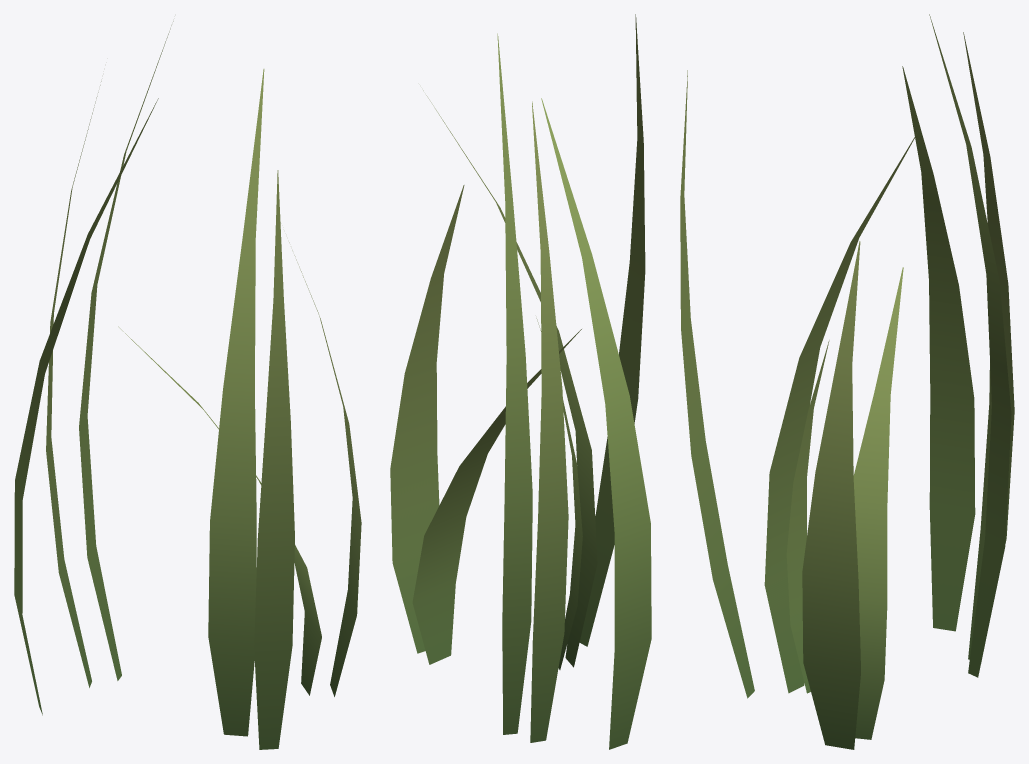
The model's file is Grass_Tuft_01.glb.
3 views of the same model, side by side, from view 1: azimuth 30°, elevation 25°; view 2: azimuth 150°, elevation 25°; view 3: azimuth 270°, elevation 25° (orthographic).
Visible parts, largest first — view 1: Grass_Tuft_01; view 2: Grass_Tuft_01; view 3: Grass_Tuft_01.
Boxes of the visible parts, <box> form: Grass_Tuft_01: <box>14,21,361,749</box>; Grass_Tuft_01: <box>390,14,651,749</box>; Grass_Tuft_01: <box>680,14,1014,749</box>.
Bounding box in the file's own units: 0.174 × 0.3789 × 0.1693.
